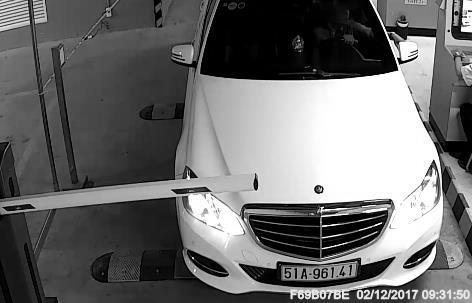License-plate: (276, 254, 367, 285)
